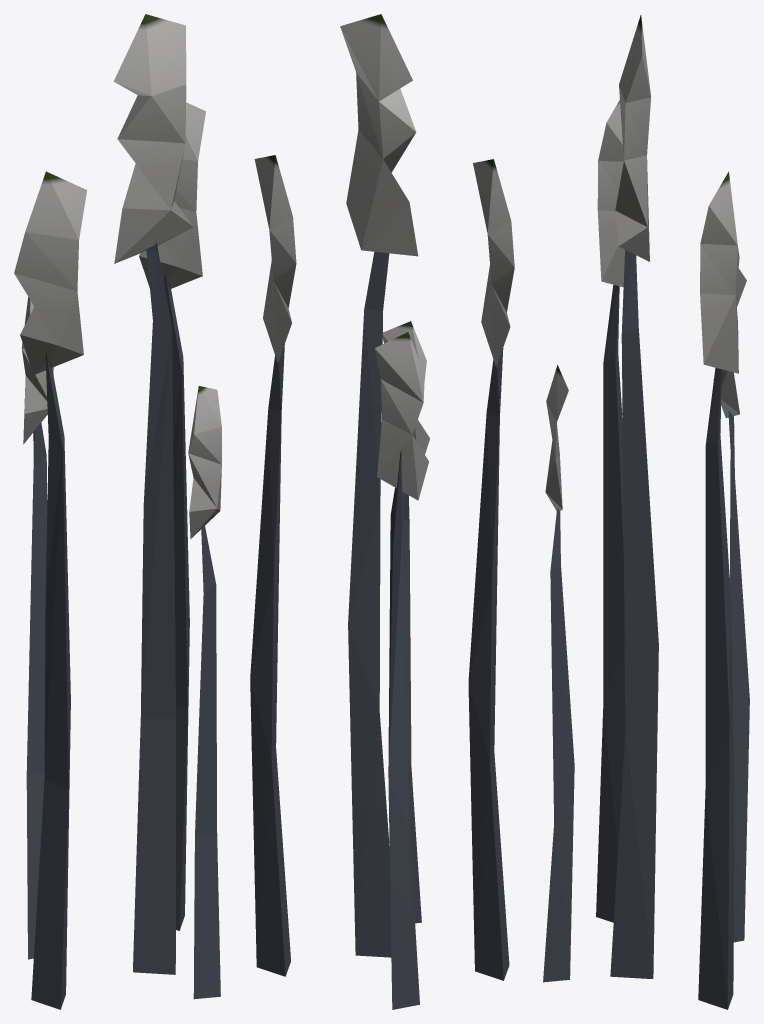
File: Millet_01.fbx
3 views of the same model, side by side, from view 1: azimuth 30°, elevation 25°; view 2: azimuth 150°, elevation 25°; view 3: azimuth 270°, elevation 25° (orthographic).
Parts seen in each view (by area): view 1: Millet_01; view 2: Millet_01; view 3: Millet_01.
Boxes of the visible parts, <box> form: Millet_01: <box>14,14,221,1009</box>; Millet_01: <box>250,14,514,1009</box>; Millet_01: <box>543,15,749,1009</box>.
Size of the model in its own units: 0.1451 by 0.5816 by 0.1139.
